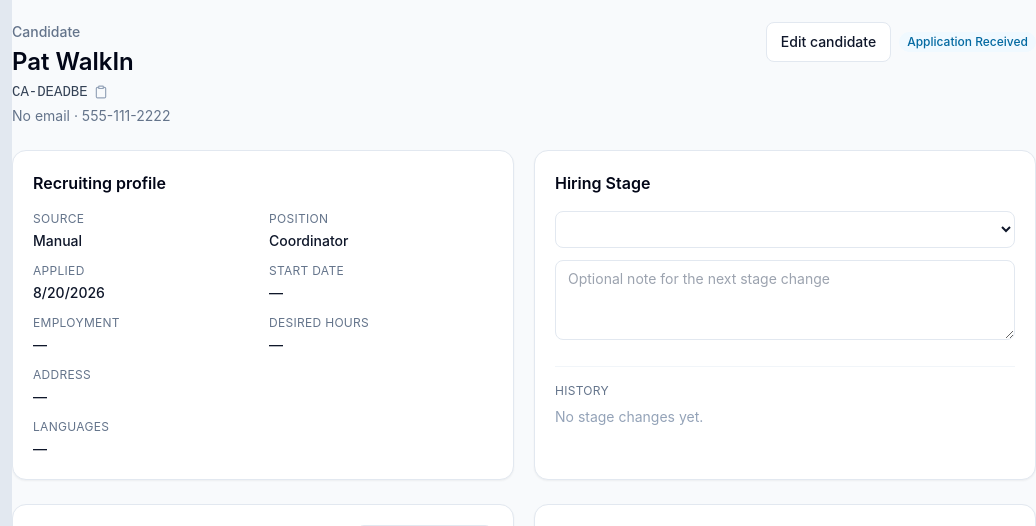
it: CandidateDetailPage › edits a candidate's profile fields and refreshes both the detail view and the list
expect the heading "Pat WalkIn" is shown: met, box [12, 47, 134, 76]
Click the button "Edit candidate" at (828, 42), box [766, 22, 891, 62]
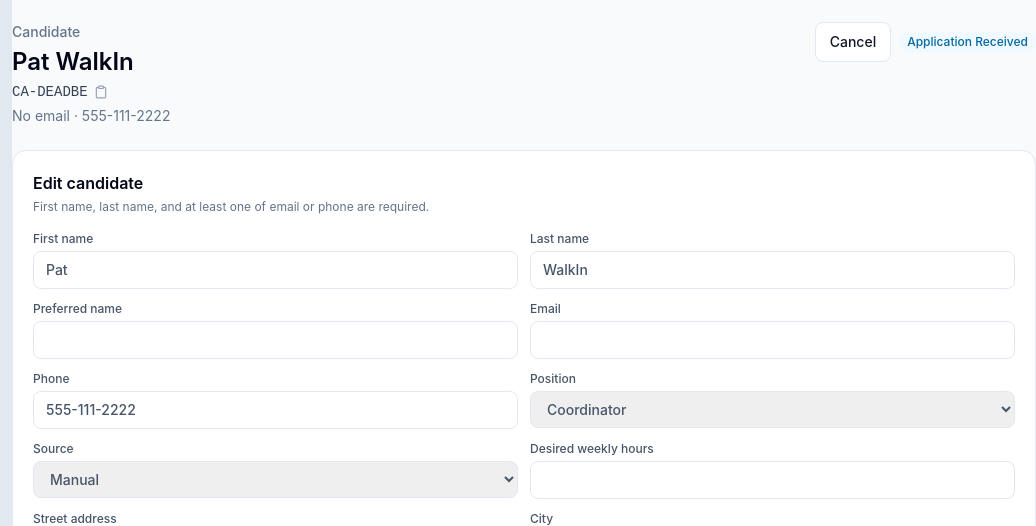
Replace the text in the field labelled "First name" with "Patricia" at (276, 270), box [33, 251, 518, 289]
(page scrolled)
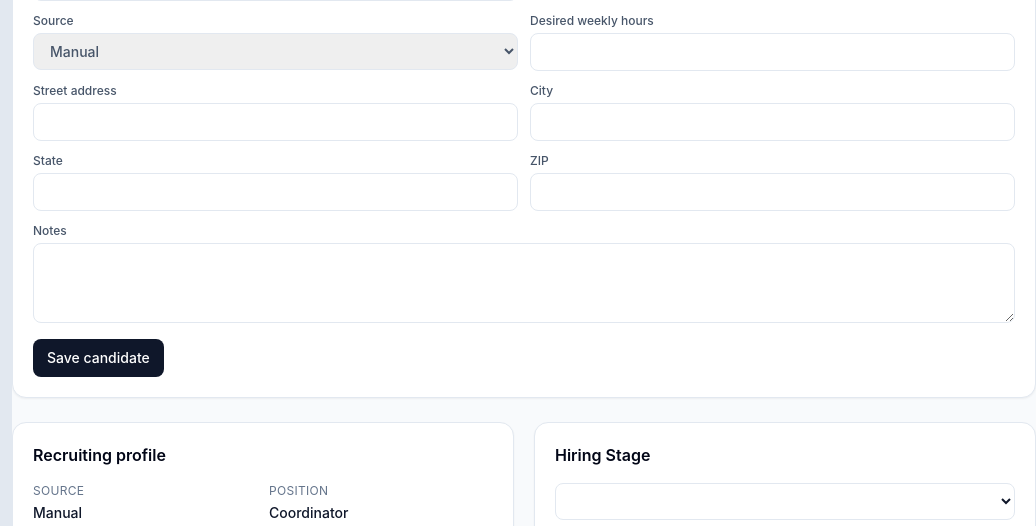
Click the button "Save candidate" at (98, 358), box [33, 339, 164, 377]
(page scrolled)
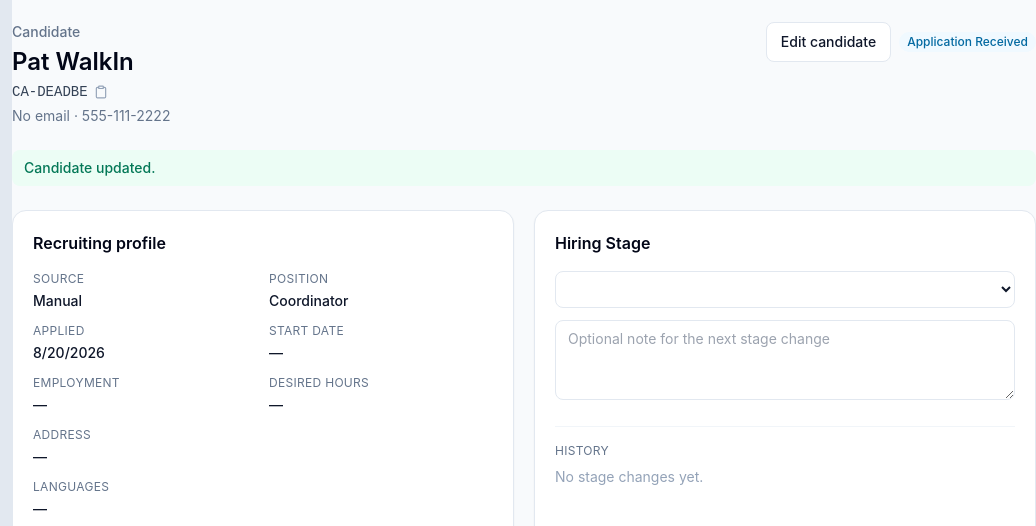
expect the text "Candidate updated." is shown: met, box [12, 150, 1035, 186]
